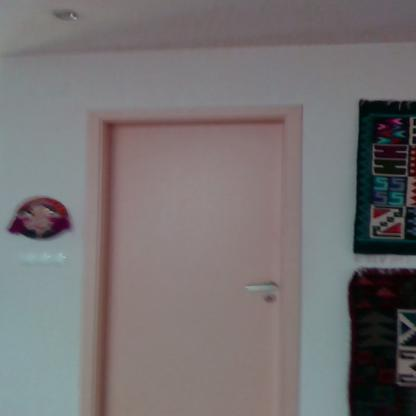door: (102, 121, 280, 416)
lever: (244, 280, 282, 295)
